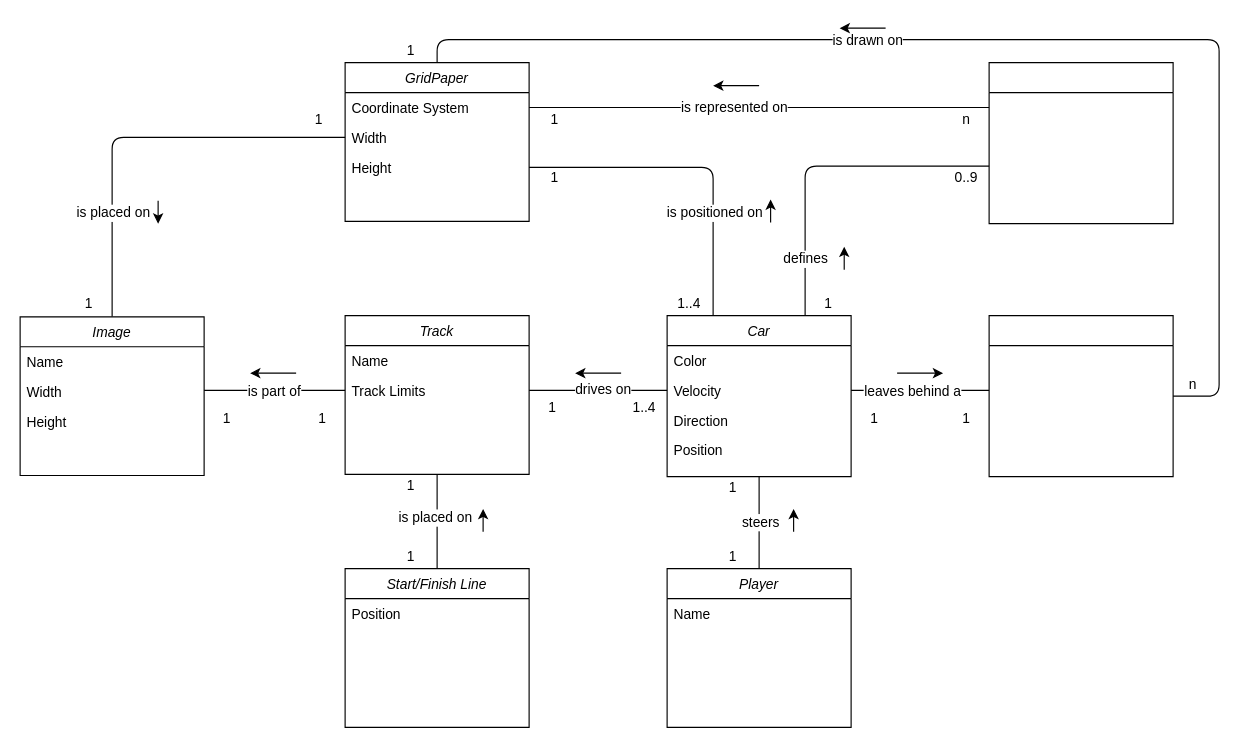
Some shapes in this 1241 by 748 pixel diagram are drawn without their labels. Each missing label, with the centre of its shape:
"PossibleTurn" goes at point (1080, 143).
"Route" goes at point (1080, 396).
